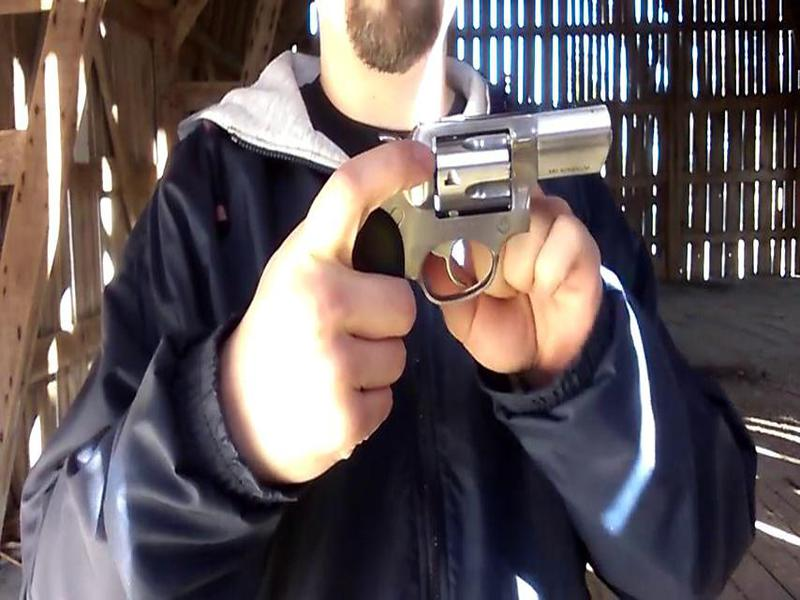Revolver: (334, 94, 668, 334)
